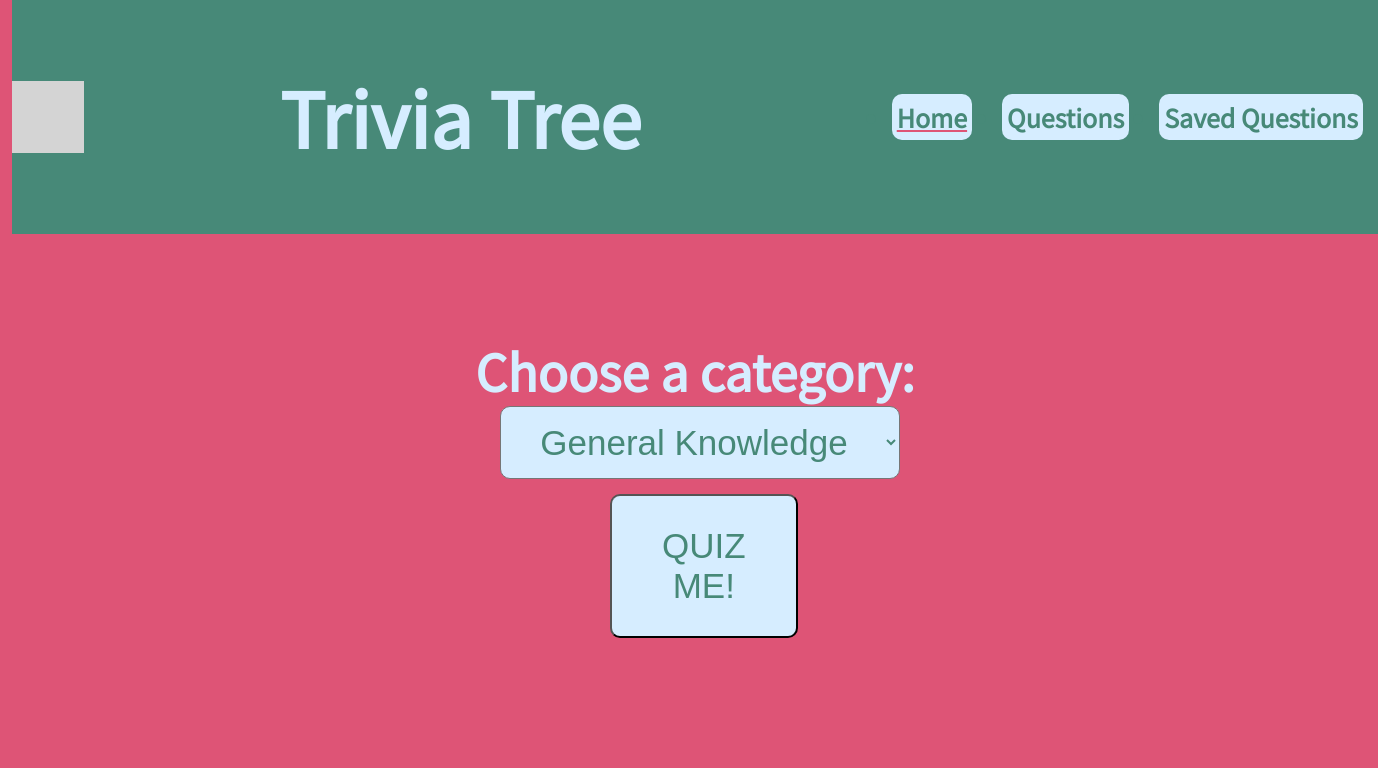
Test: Error Handling › Should tell the user if the fetch failed
The width and height of the screenshot is (1378, 768).
Step 1. Click the button "QUIZ ME!" → click(704, 566), box left=610, top=494, right=798, bottom=638
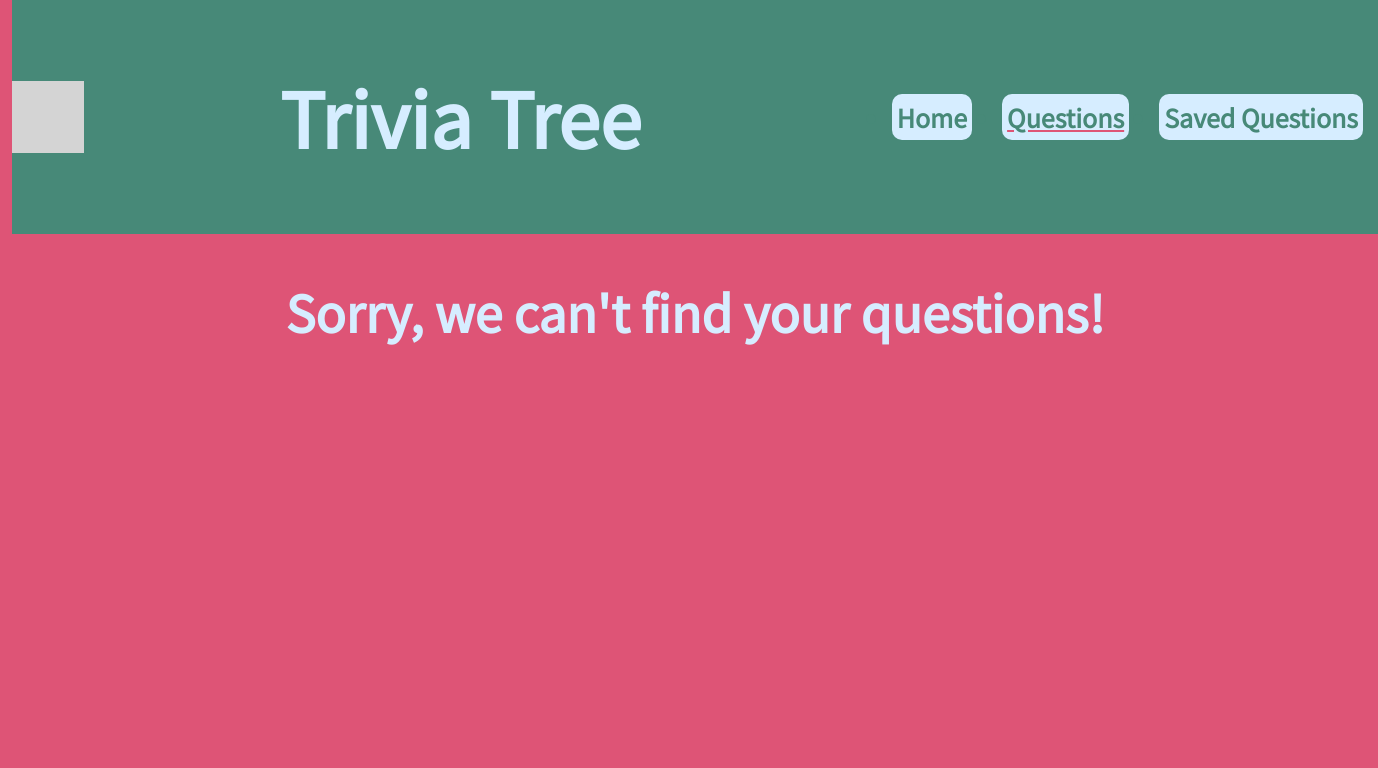
Now the heading with class "msg" reads "Sorry, we can't find your questions!", box left=285, top=275, right=1104, bottom=347
